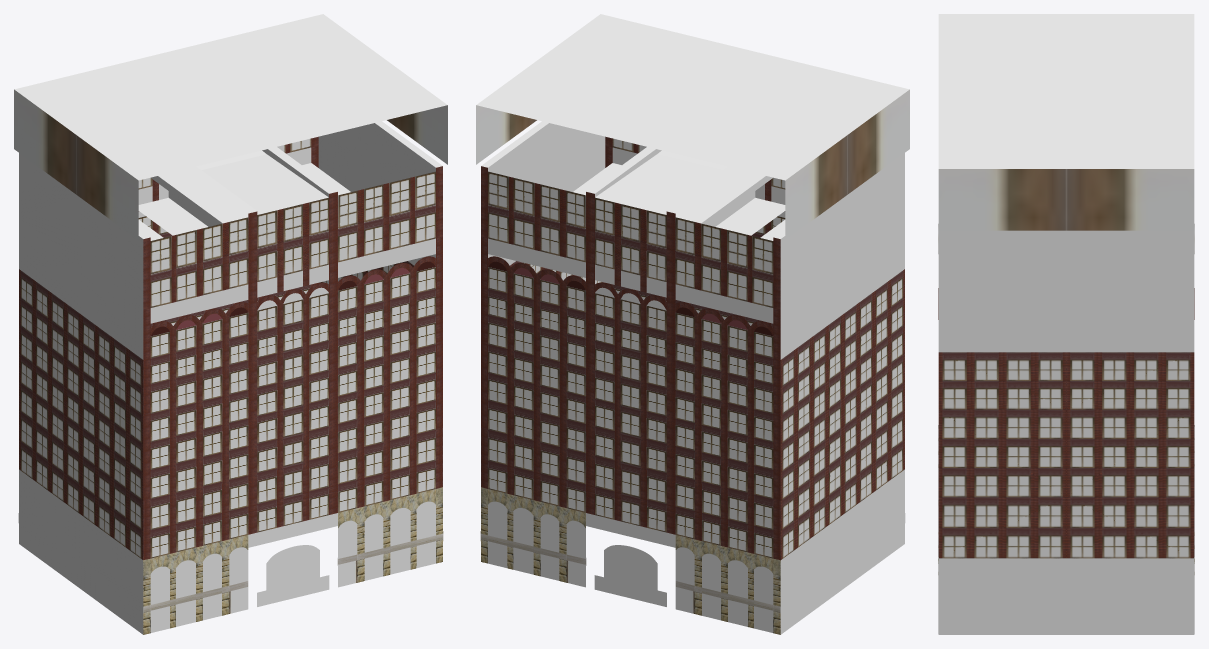
File: home_insurance_bldg.glb
3 views of the same model, side by side, from view 1: azimuth 30°, elevation 25°; view 2: azimuth 150°, elevation 25°; view 3: azimuth 270°, elevation 25° (orthographic). The views are drawn at different scales.
Parts seen in each view (by area): view 1: bldg; view 2: bldg; view 3: bldg.
Part boxes in pixels (x1,y1,x2,y2): bldg: (14, 14, 447, 634); bldg: (476, 14, 909, 634); bldg: (938, 14, 1194, 634).
Size of the model in its own units: 38.99 by 54.9 by 27.22.
8 materials, 8 textured.
